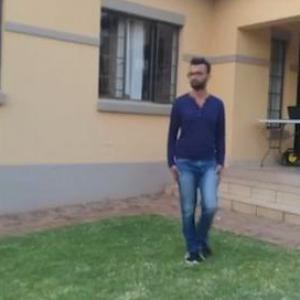follow: (164, 51, 230, 272)
